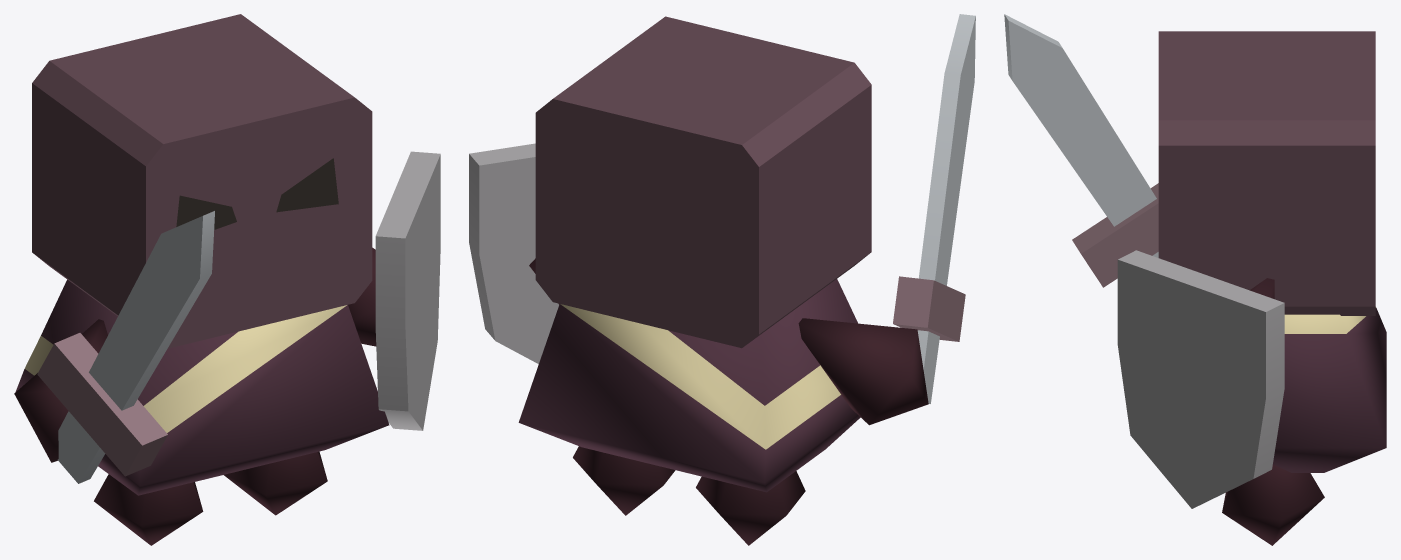
Rendered from enemy_knight_basic.fbx.
3 renders of one model, left to right at view 1: azimuth 30°, elevation 25°; view 2: azimuth 150°, elevation 25°; view 3: azimuth 270°, elevation 25°, orthographic. The views are drawn at different scales.
Visible parts, largest first — view 1: enemy_knight_basic; view 2: enemy_knight_basic; view 3: enemy_knight_basic.
Part boxes in pixels (x1,y1,x2,y2): enemy_knight_basic: (14,14,440,545); enemy_knight_basic: (469,14,975,545); enemy_knight_basic: (1004,14,1386,545).
Size of the model in its own units: 2.27 by 1.81 by 2.27.
